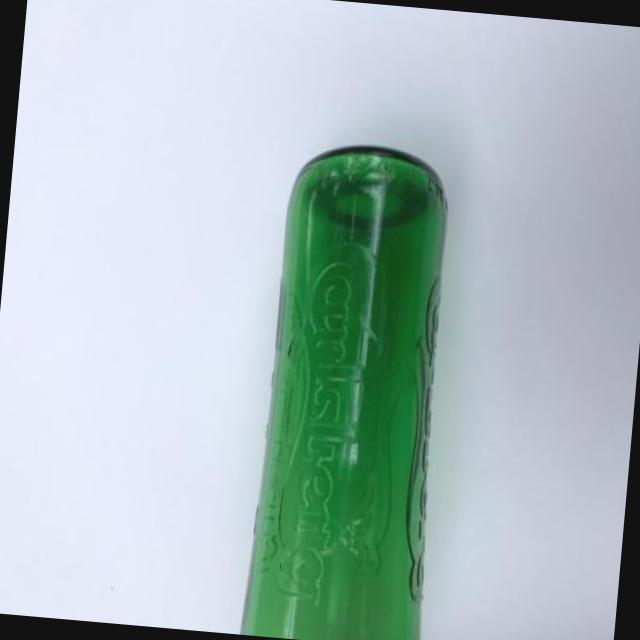chai_thuy_tinh: (242, 149, 447, 640)
